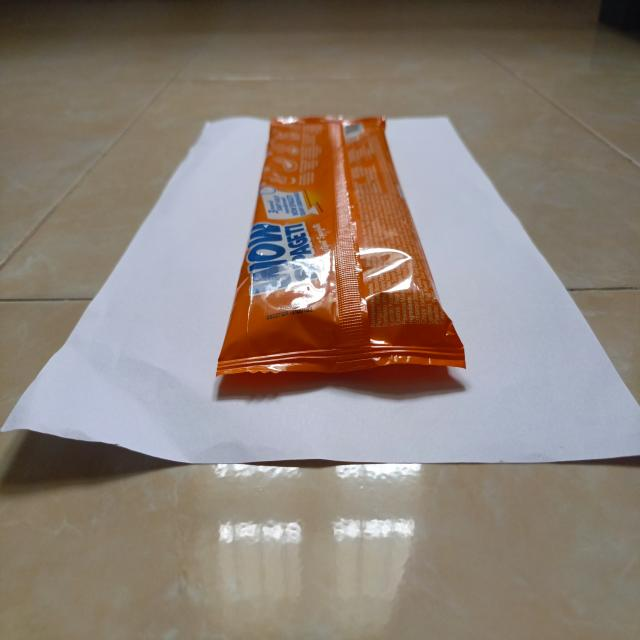indomie-tori-miso: (216, 116, 466, 380)
